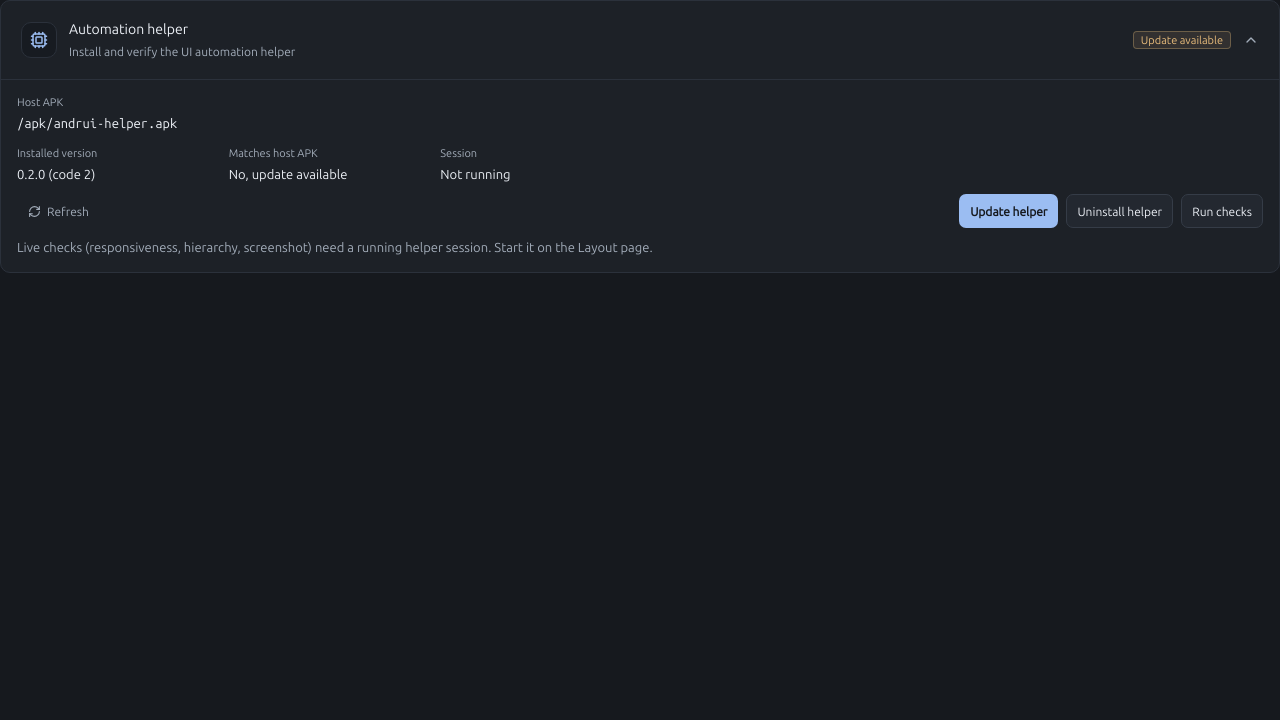
HelperPanel › summarizes results and lists multi-step guidance
Check: the text "Start it on the Layout page" is shown, box [17,240,653,254]
What coordinates should you click on to do the following:
click the button "Run checks"
I would click on:
 (1222, 211)
Its box is [1181,194,1263,228].
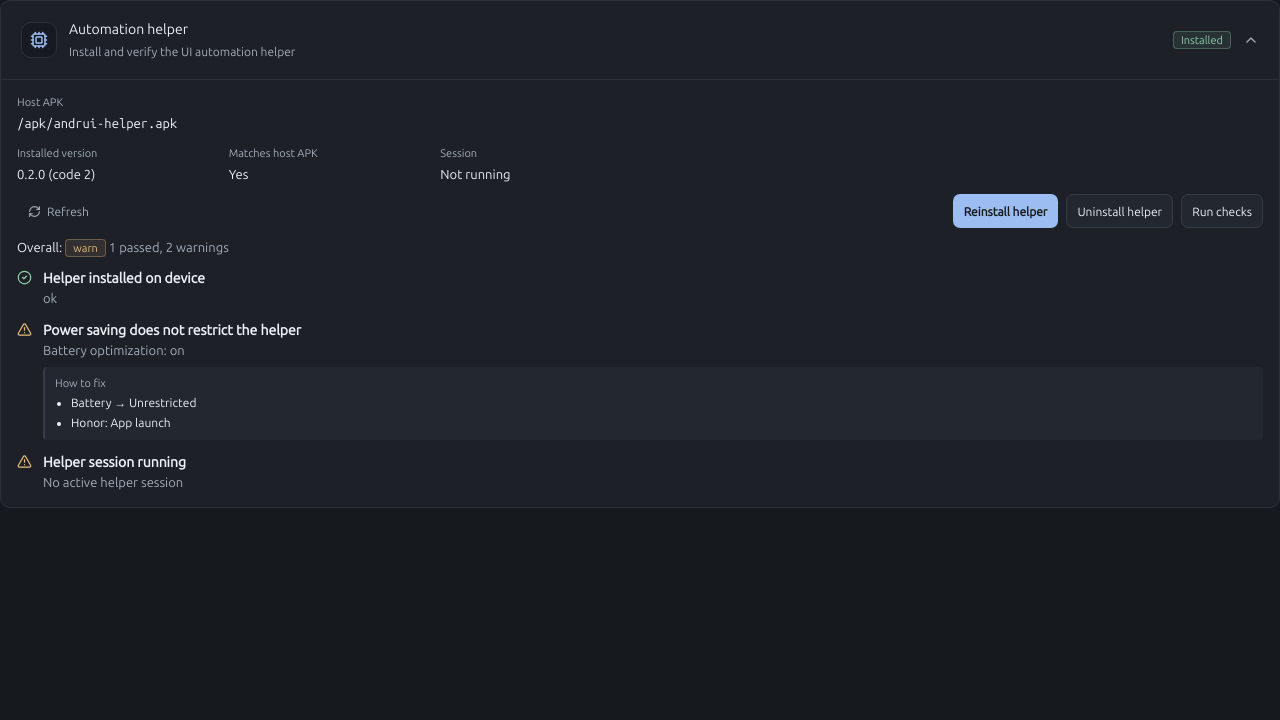
Check: the text "1 passed, 2 warnings" is shown, box [109,240,229,254]
Check: the text "Start it on the Layout page" is gone
